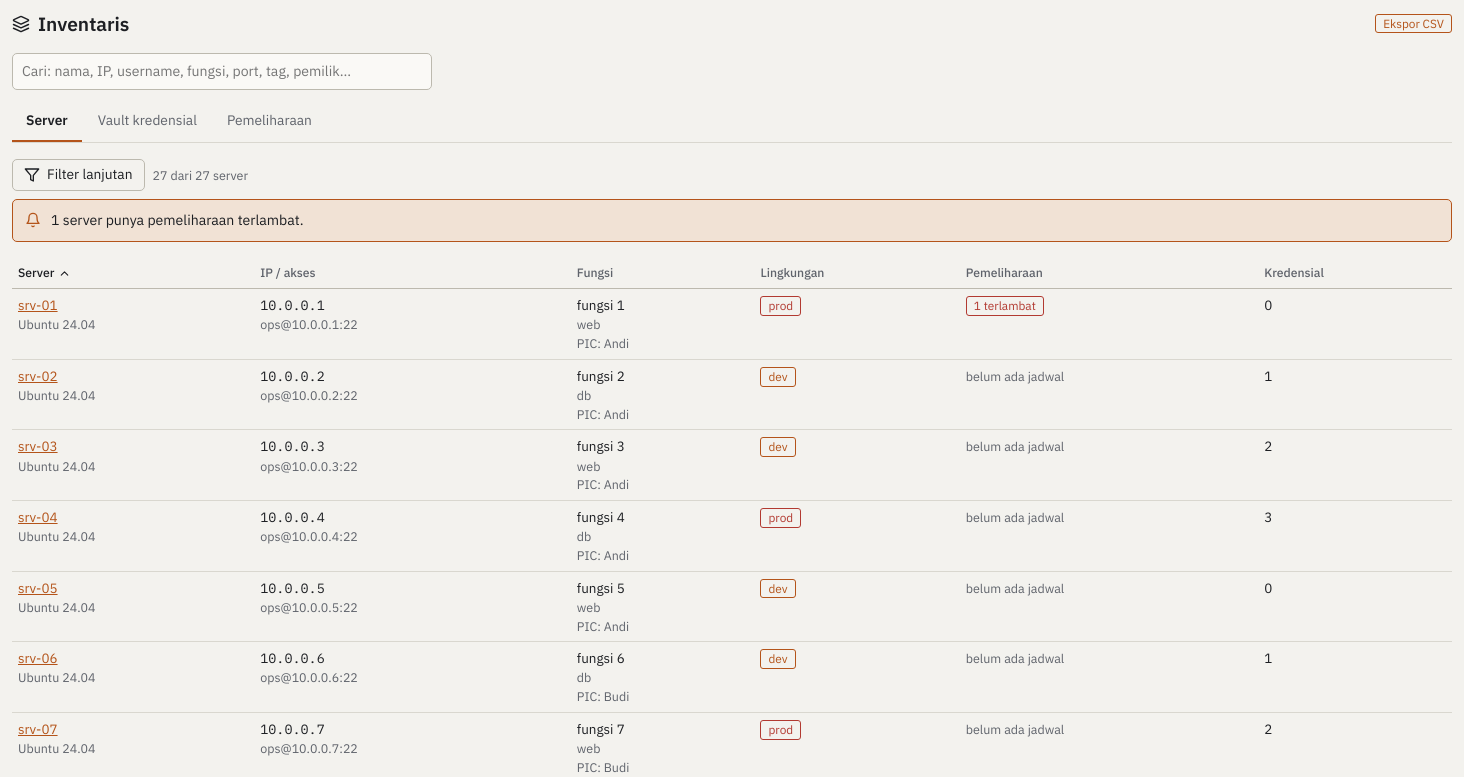
Test: InventoryPage: tabel server › filter lanjutan: lingkungan dan PIC mempersempit, jumlah dan label aktif tampil, label bisa dihapus satu per satu, dan Hapus semua mengembalikan
Expected: the text "27 dari 27 server" is shown, [152, 166, 248, 184]
Click the button "Filter lanjutan" at x=78, y=175, box [12, 159, 144, 191]
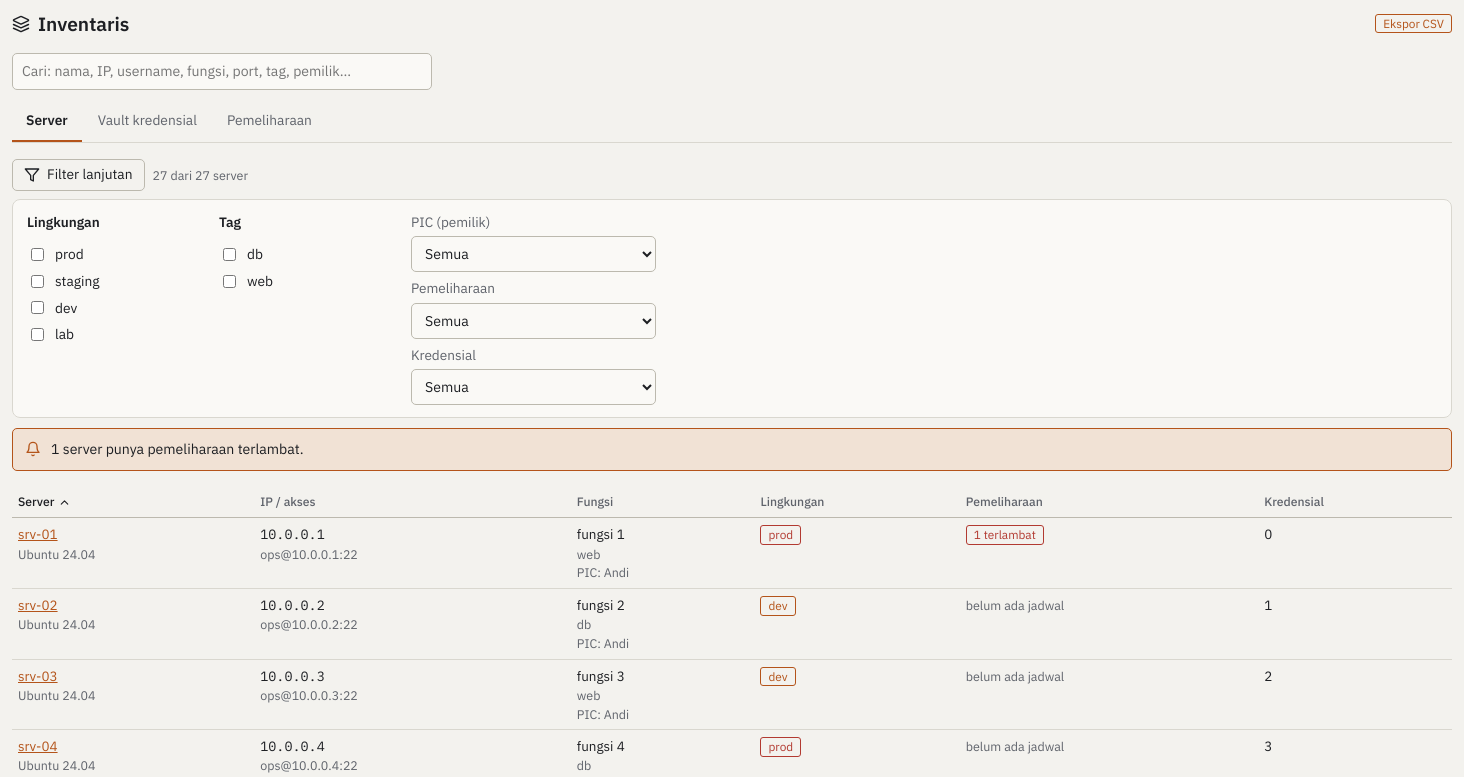
Click the checkbox labelled "prod" at x=38, y=255, box [31, 248, 44, 261]
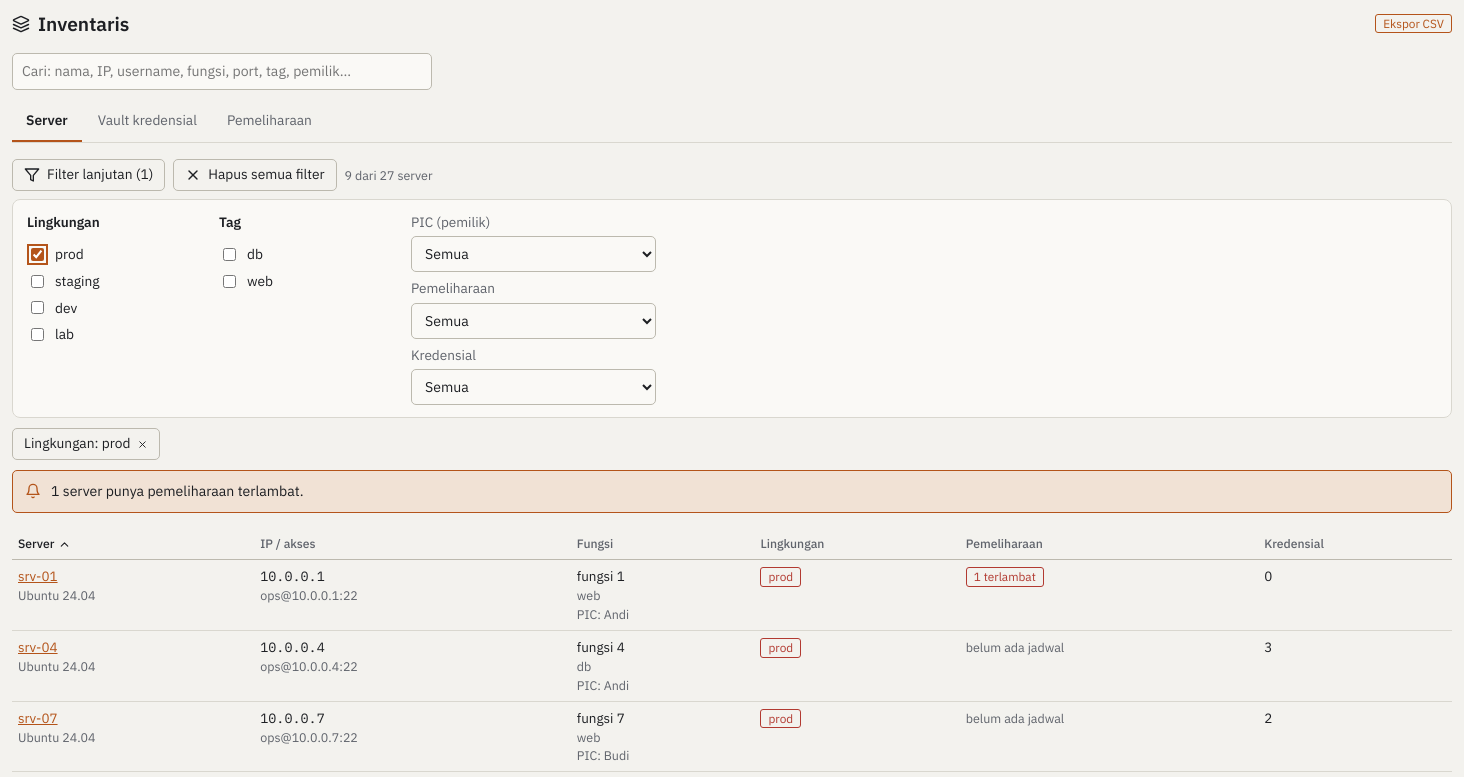
Expected: the text "9 dari 27 server" is shown, [344, 166, 432, 184]
Select "Andi" in the dropdown labelled "PIC" at x=534, y=254, box [411, 236, 656, 272]
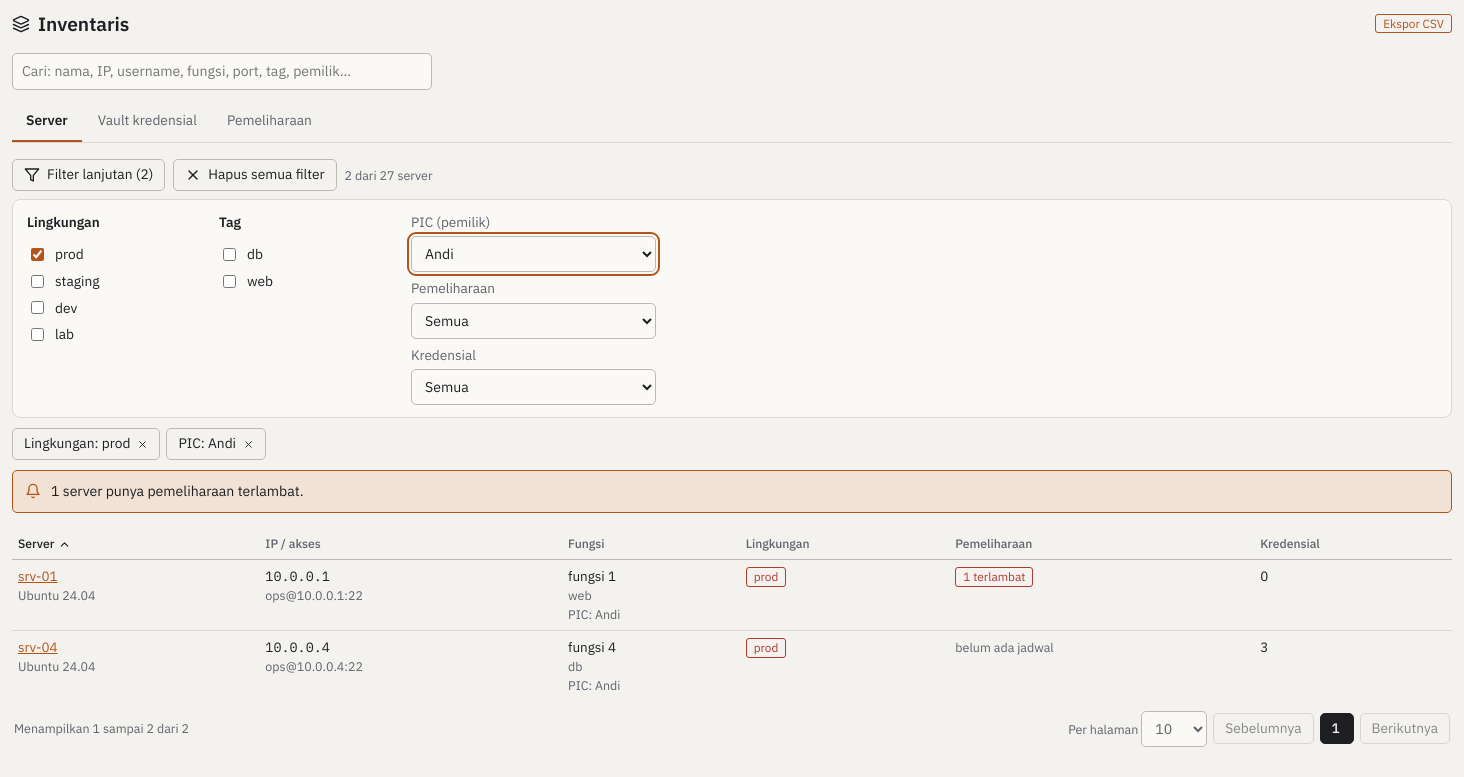
Expected: the text "2 dari 27 server" is shown, [344, 166, 432, 184]
Expected: the button "Filter lanjutan (2)" is shown, [12, 159, 165, 191]
Click the button with aria-label "Hapus filter PIC: Andi" at x=216, y=444, box [166, 428, 266, 460]
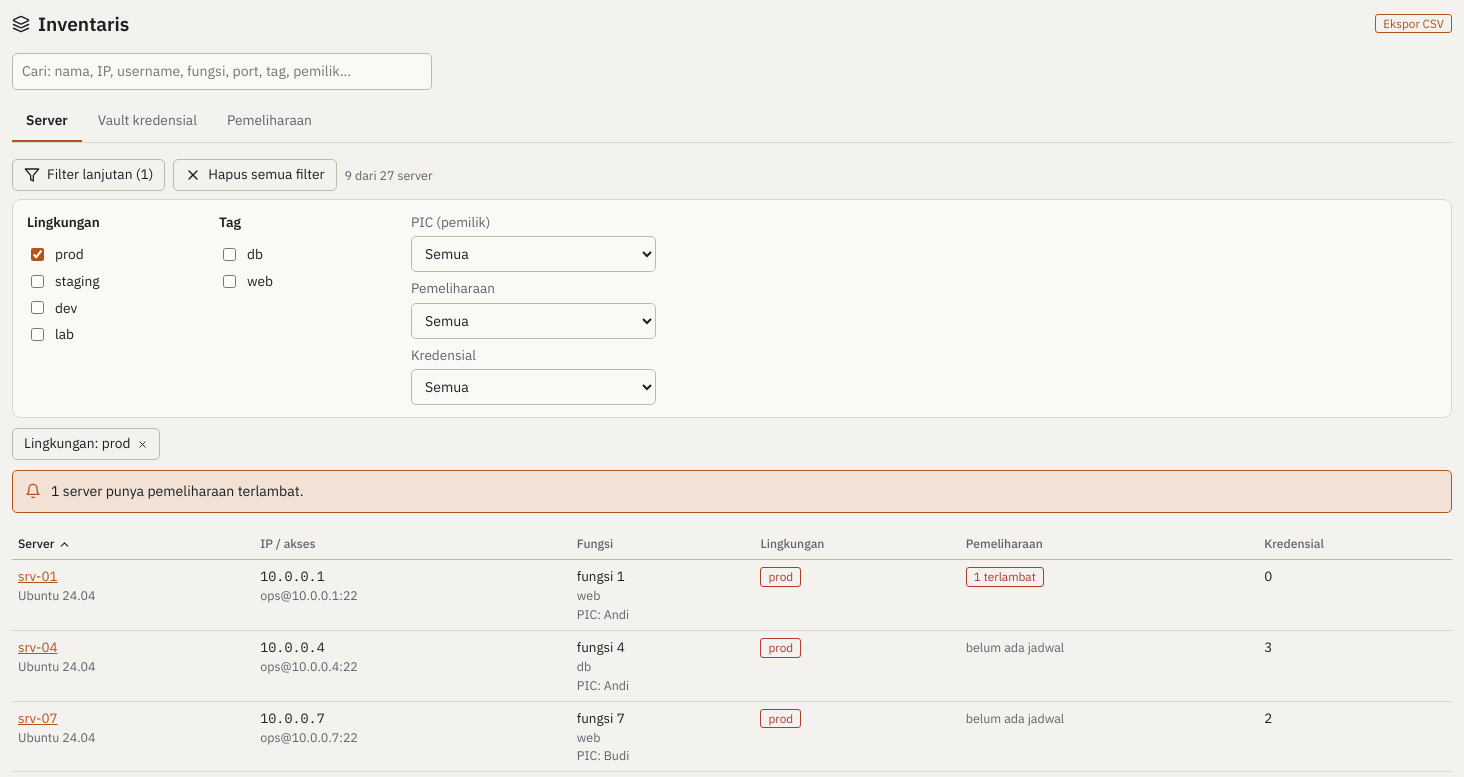
Expected: the text "9 dari 27 server" is shown, [344, 166, 432, 184]
Click the button "Hapus semua filter" at x=255, y=175, box [173, 159, 337, 191]
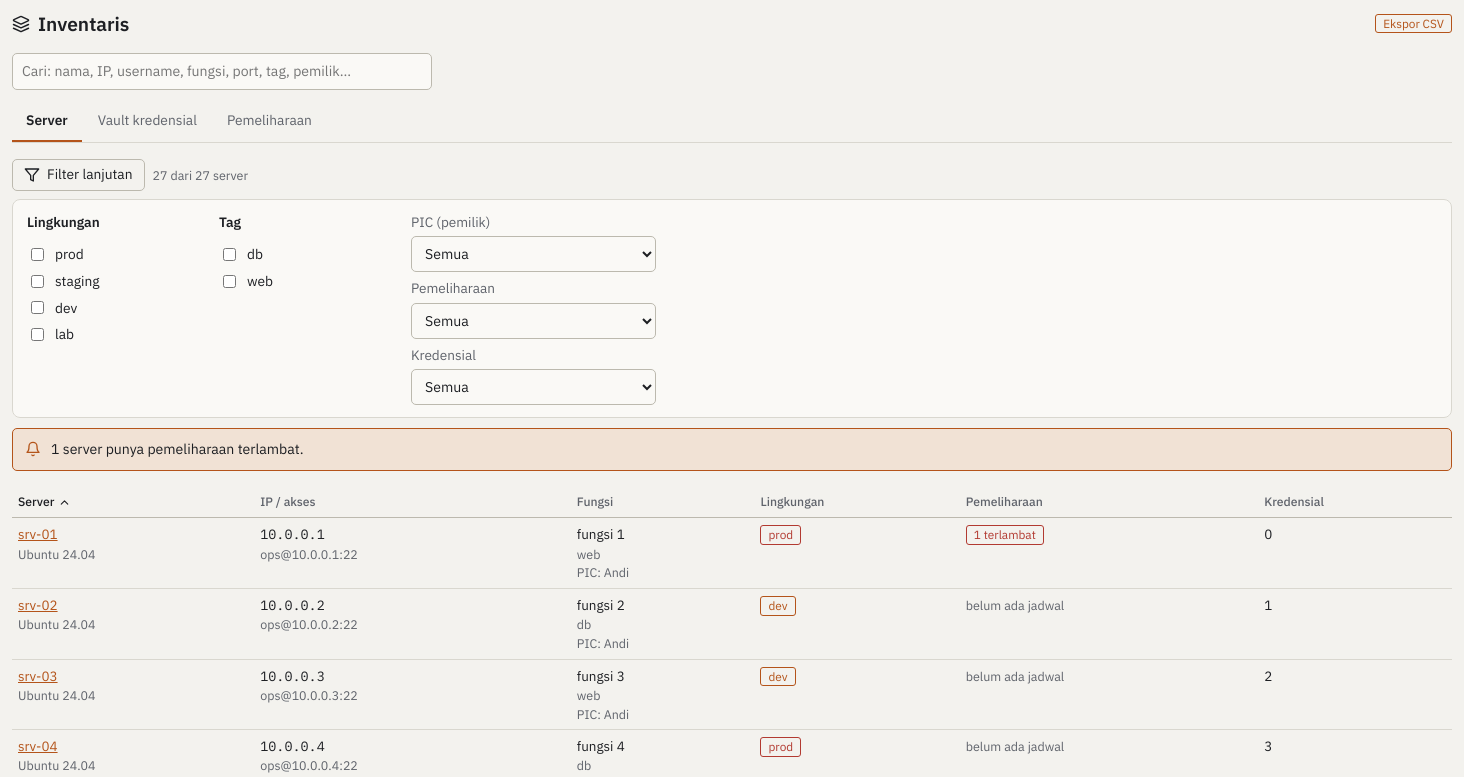
Expected: the text "27 dari 27 server" is shown, [152, 166, 248, 184]
